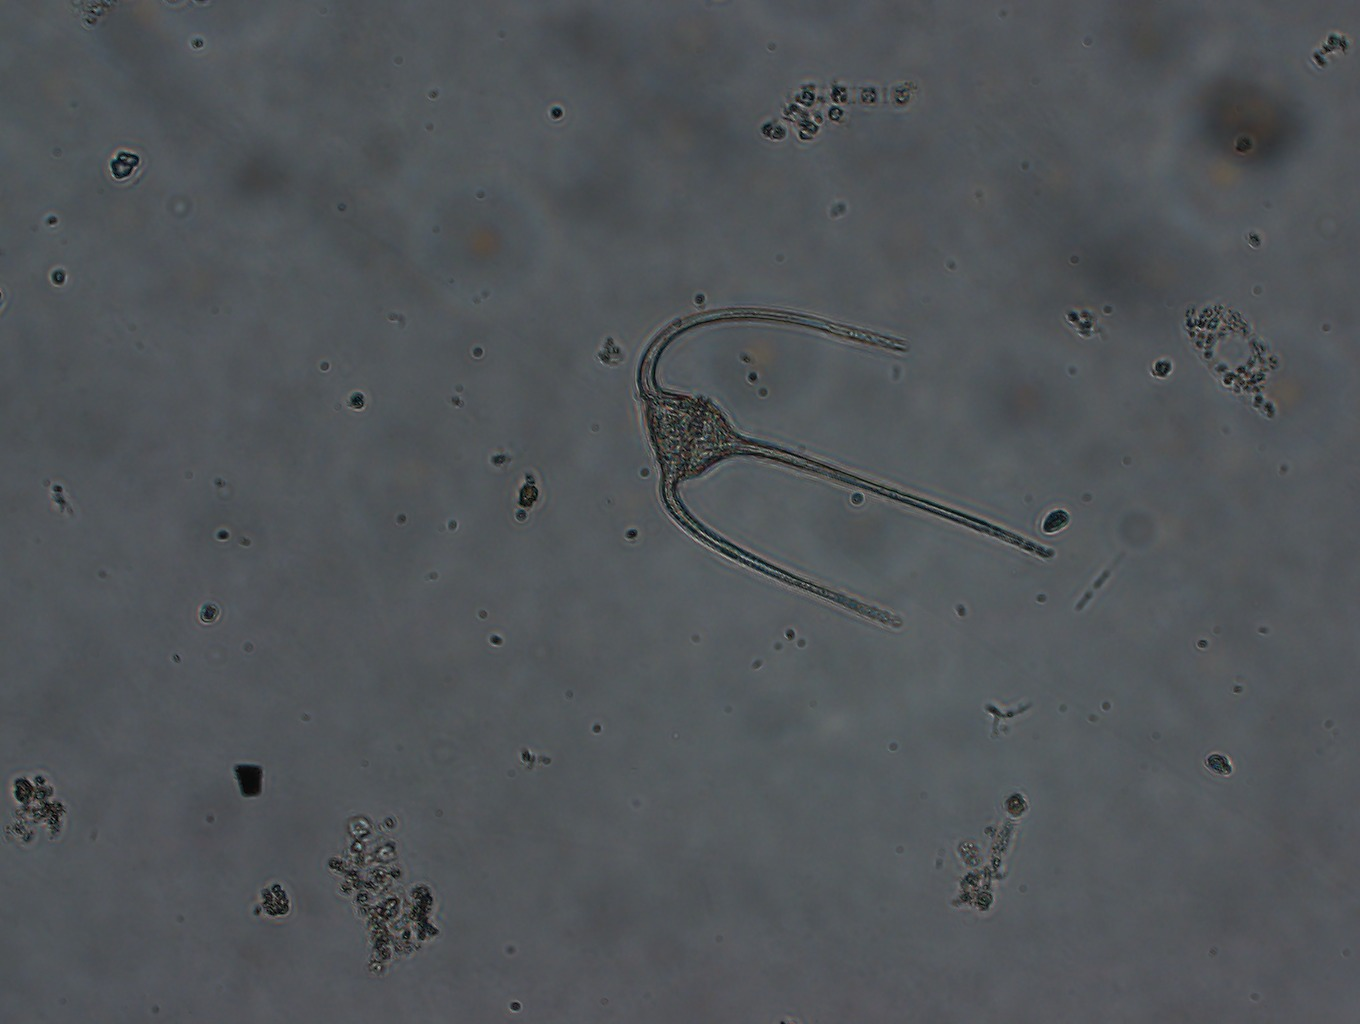ceratium trichoceros: (624, 279, 1060, 632)
skeletonema: (785, 66, 913, 116)
